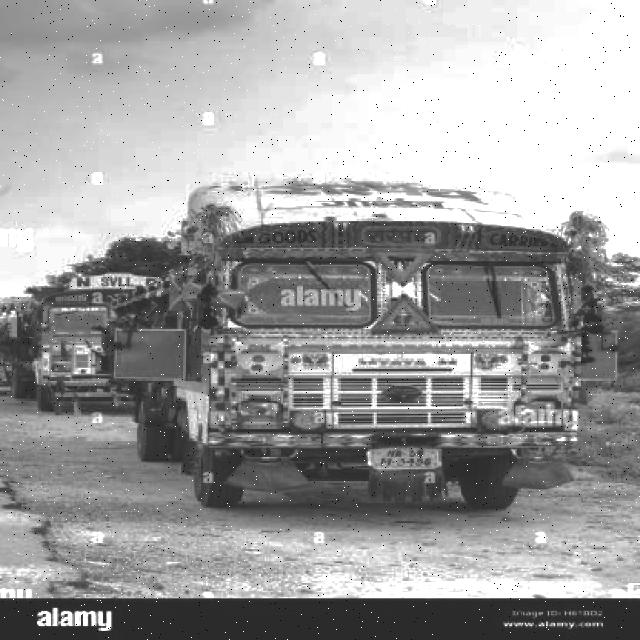HCV: (130, 232, 576, 505), (11, 272, 205, 417)
